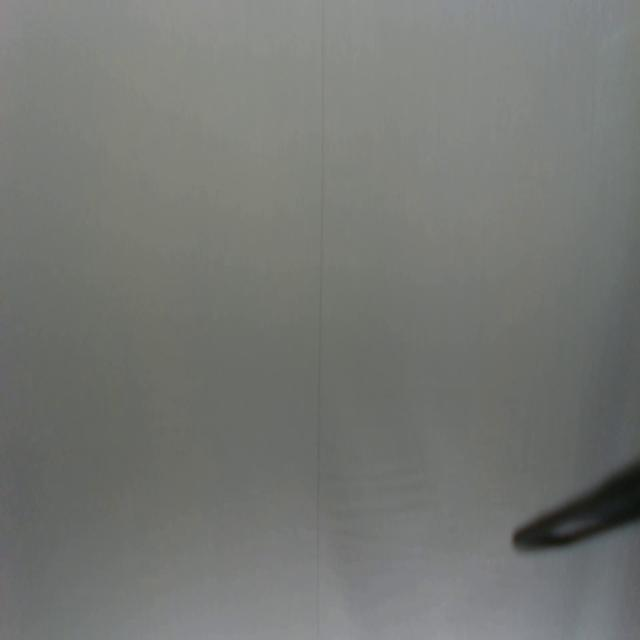crease: (314, 0, 326, 639)
